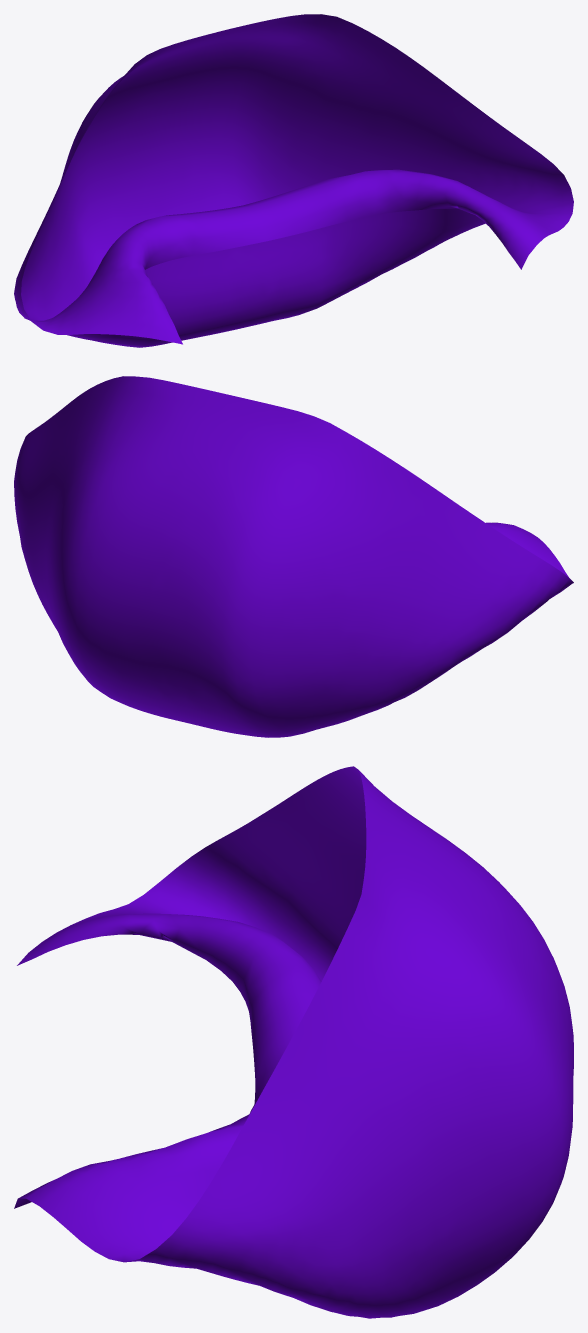
Rendered from hood-inside.glb.
3 renders of one model, top to bottom at view 1: azimuth 30°, elevation 25°; view 2: azimuth 150°, elevation 25°; view 3: azimuth 270°, elevation 25°, orthographic. The views are drawn at different scales.
Visible parts, largest first — view 1: hood_inside; view 2: hood_inside; view 3: hood_inside.
Boxes of the visible parts, x1,y1,x2,y2 form: hood_inside: (14,14,573,347); hood_inside: (14,376,573,737); hood_inside: (14,766,573,1318).
Size of the model in its own units: 0.9653 by 0.5301 by 0.6132.
